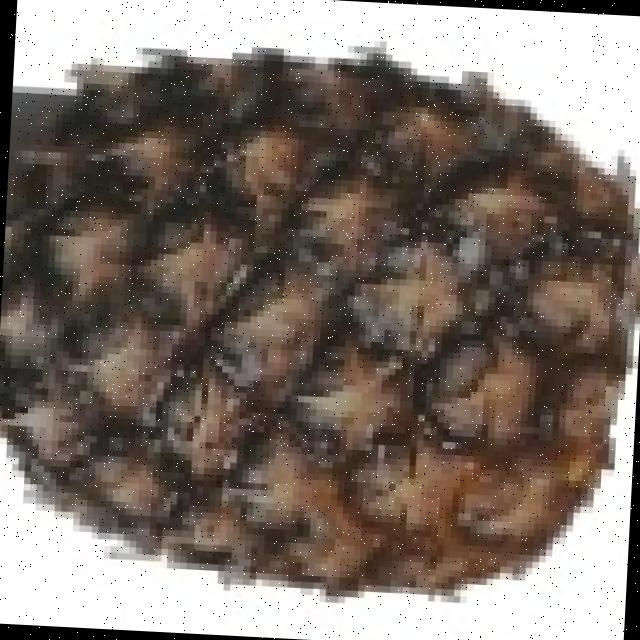pineapple: (0, 53, 640, 596)
